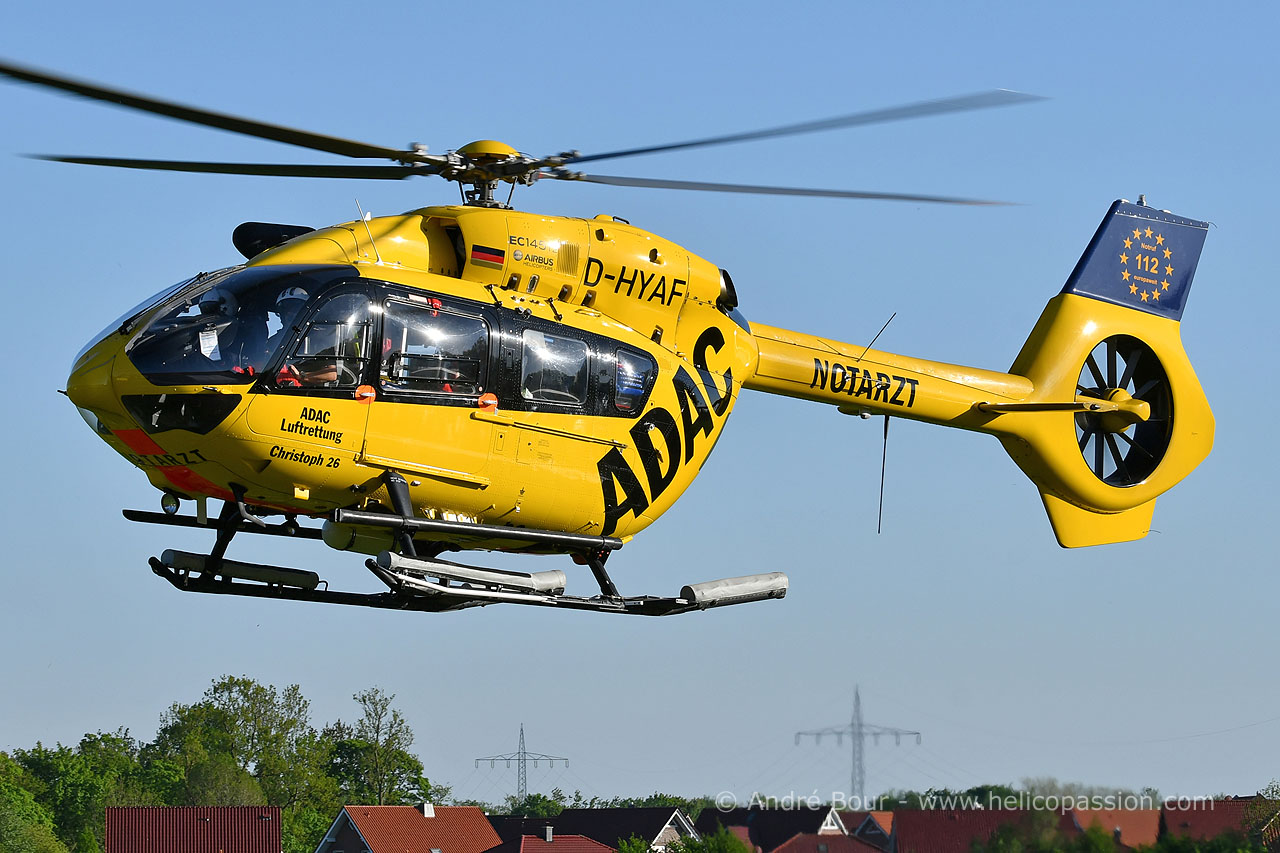Aeronef_commercial: (1, 34, 1243, 633)
